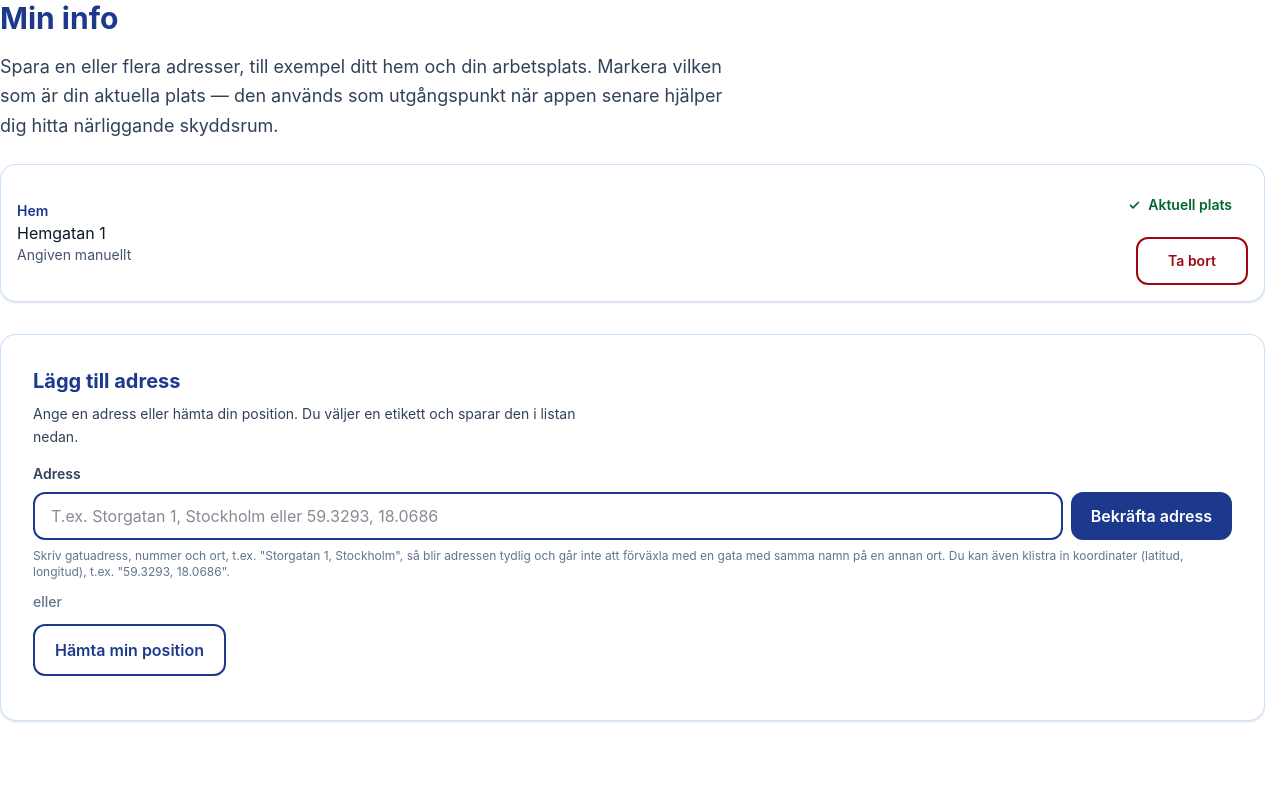
Test: MyInfoPage › cancelling the confirmation dialog leaves the address unchanged
The width and height of the screenshot is (1280, 800).
Expected: the text "Hemgatan 1" is shown, [17, 223, 106, 243]
What coordinates should you click on to do the following:
click the button "Ta bort"
I would click on:
 (1192, 261)
Its box is [1136, 237, 1248, 285].
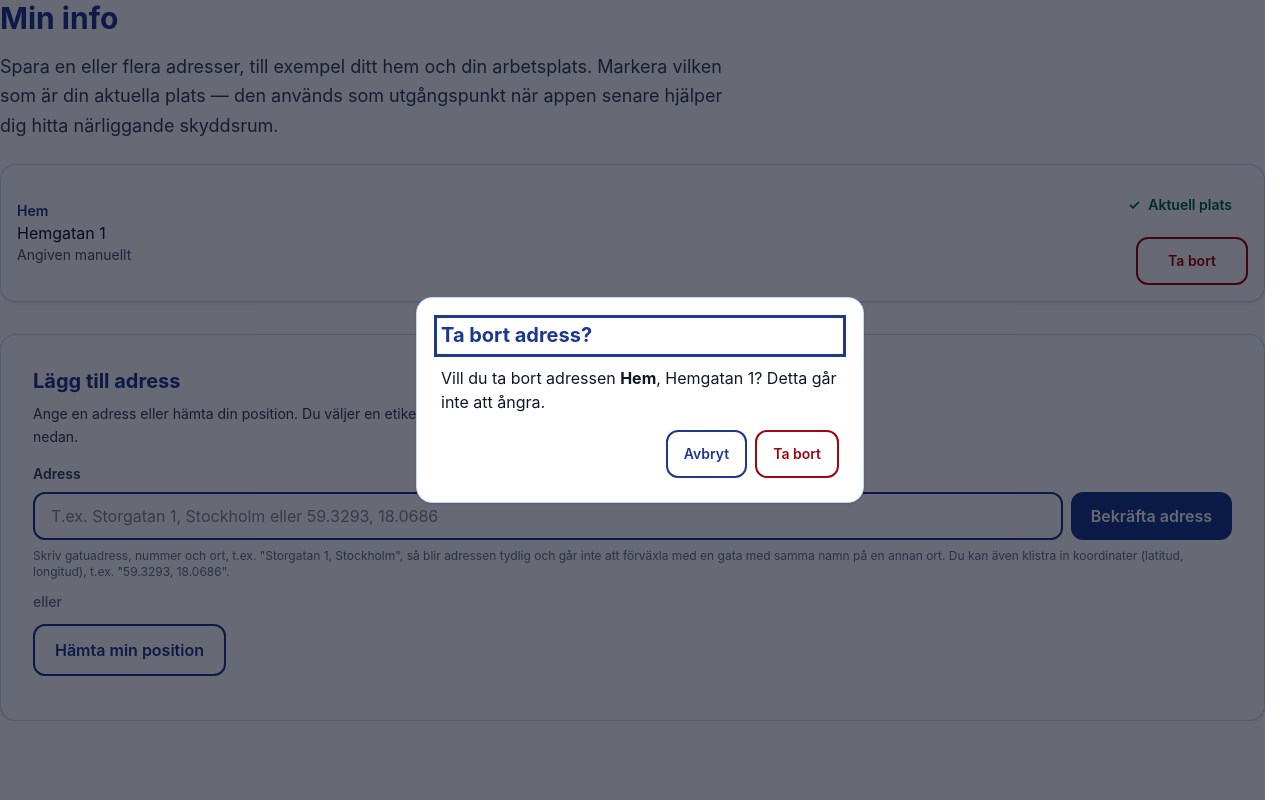
What coordinates should you click on to do the following:
click the button "Avbryt"
I would click on:
 (706, 454)
Its box is [666, 430, 747, 478].
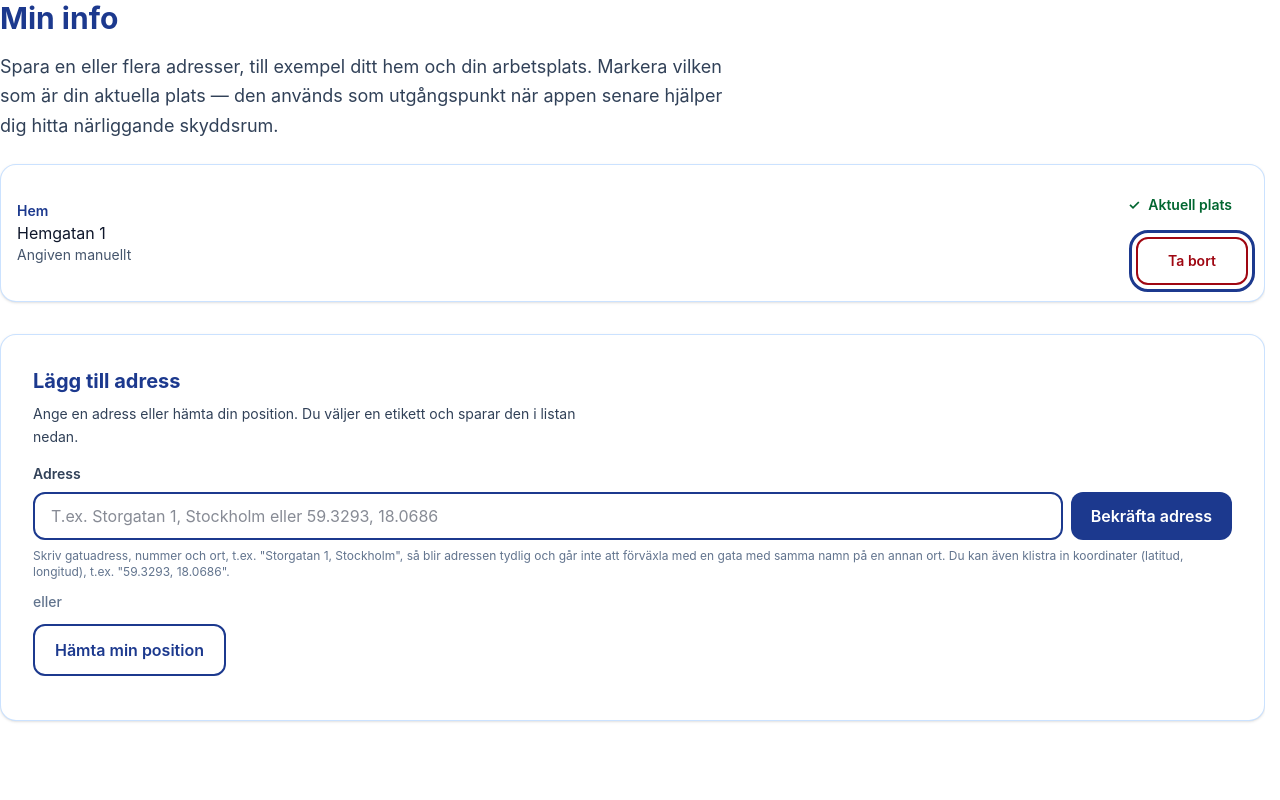
Expected: the text "Hemgatan 1" is shown, [17, 223, 106, 243]
Expected: the dialog is gone
